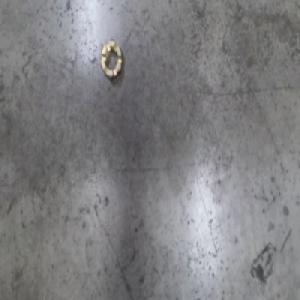Nut: (98, 38, 123, 82)
